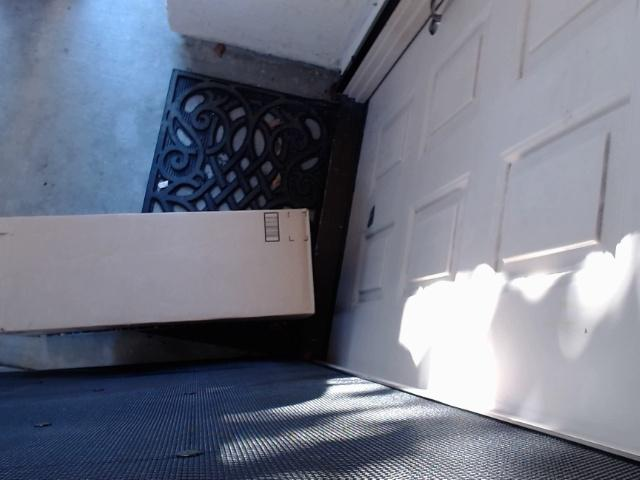box: (0, 183, 366, 339)
